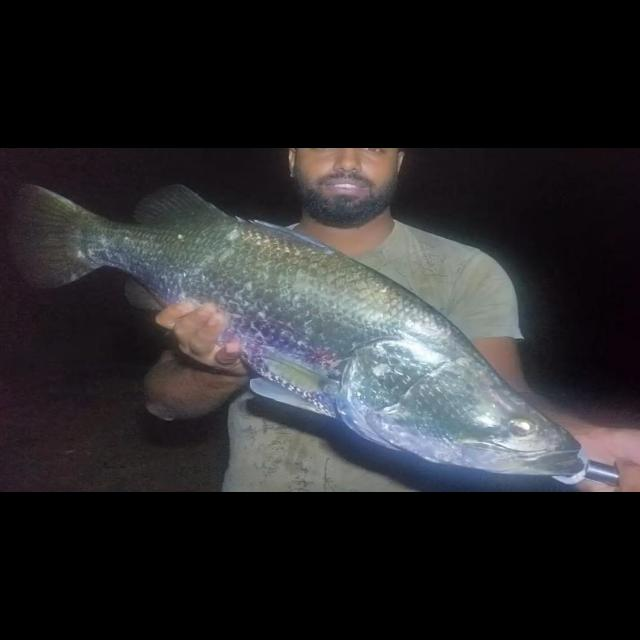Seabass: (12, 185, 584, 478)
